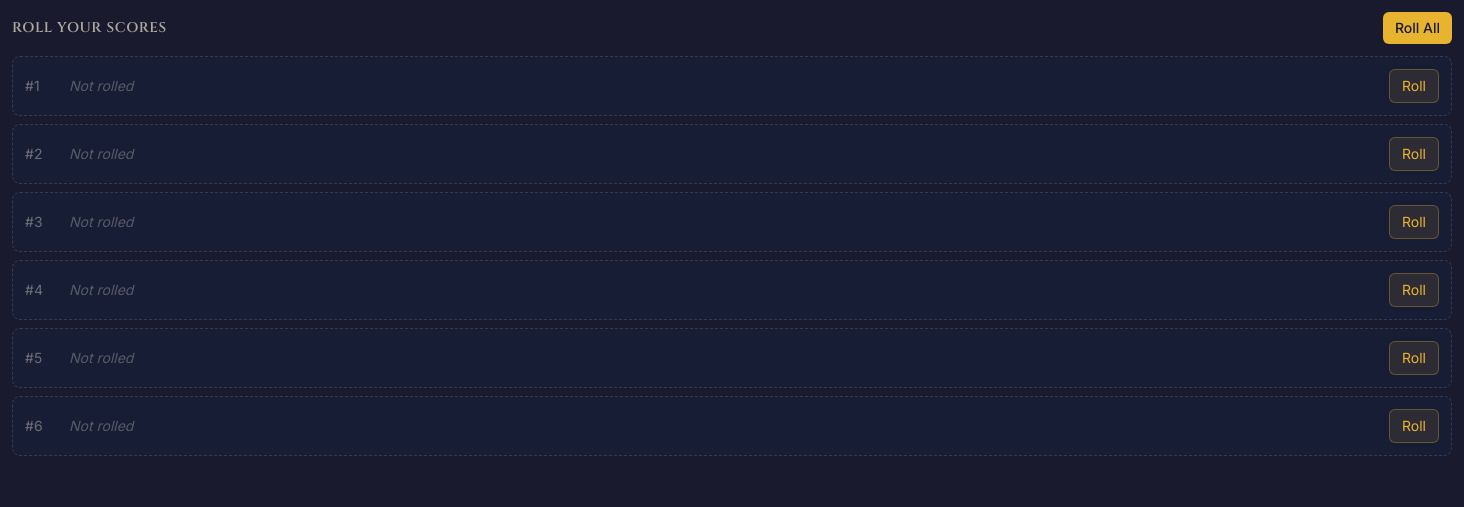
DiceRollingInterface › should roll a single slot when Roll button is clicked
The image size is (1464, 507).
Step 1. Click the button with test id "roll-button-0" → (1414, 86), box [1389, 69, 1439, 103]
Wait 400 ms
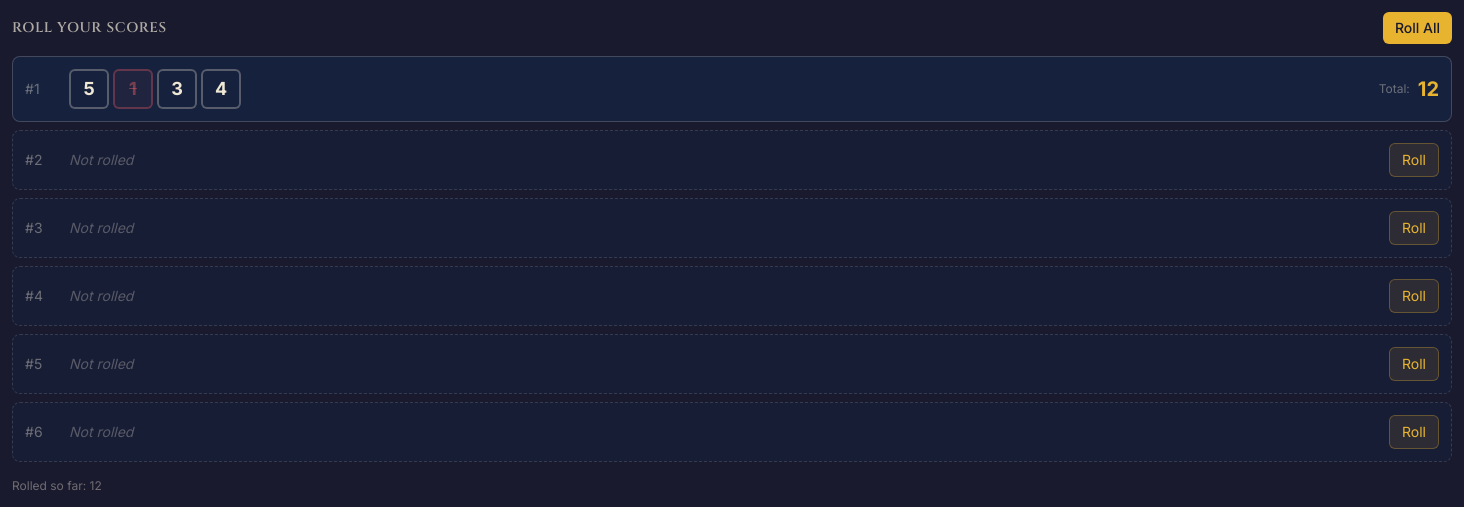
Result: the text "12" is shown at [1418, 75, 1439, 103]
